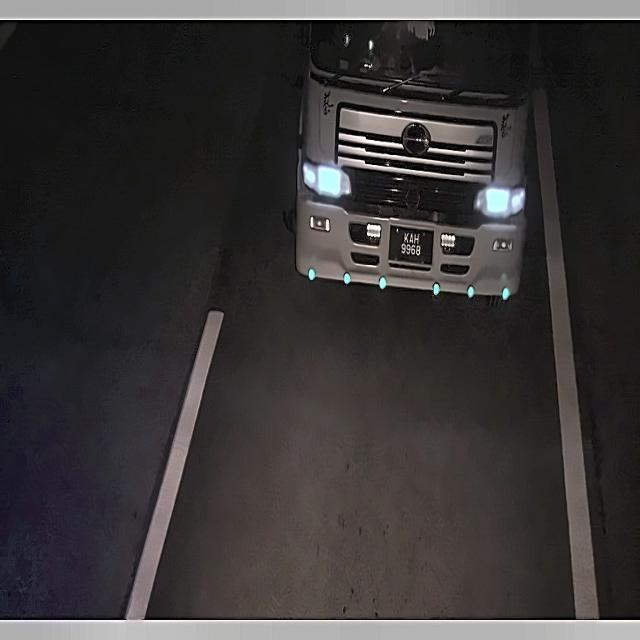car: (386, 221, 439, 268)
